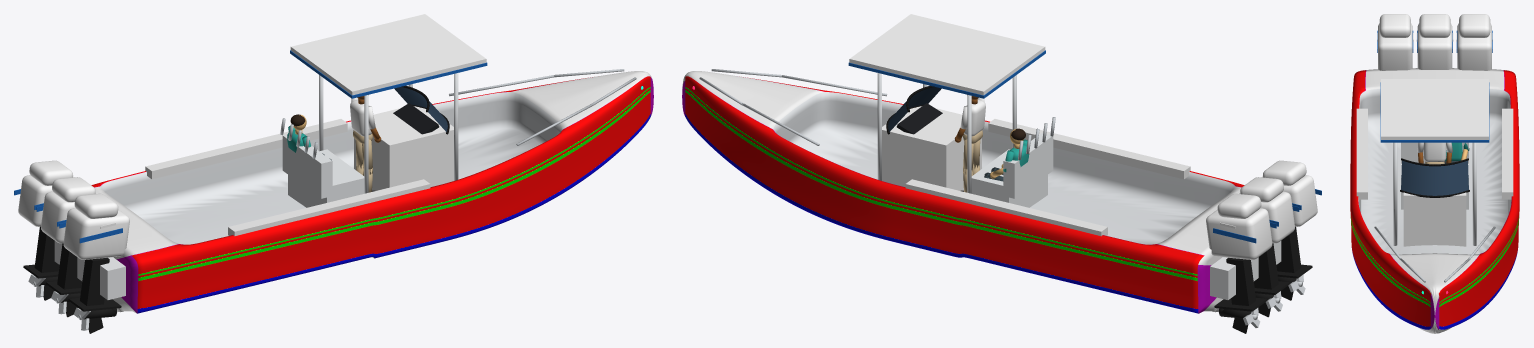
The model's file is CenterConsole.glb.
The picture shows the model from 3 angles, left to right: view 1: azimuth 30°, elevation 25°; view 2: azimuth 150°, elevation 25°; view 3: azimuth 270°, elevation 25°; orthographic projection. The views are drawn at different scales.
Parts seen in each view (by area): view 1: CenterConsole; view 2: CenterConsole; view 3: CenterConsole.
Boxes of the visible parts, box(x1,y1,x2,y2) form: CenterConsole: box(14, 14, 653, 333); CenterConsole: box(682, 14, 1321, 333); CenterConsole: box(1350, 14, 1519, 333).
Bounding box in the file's own units: 10.84 × 3.21 × 2.99.
Materials: 30 (1 with a texture image).
